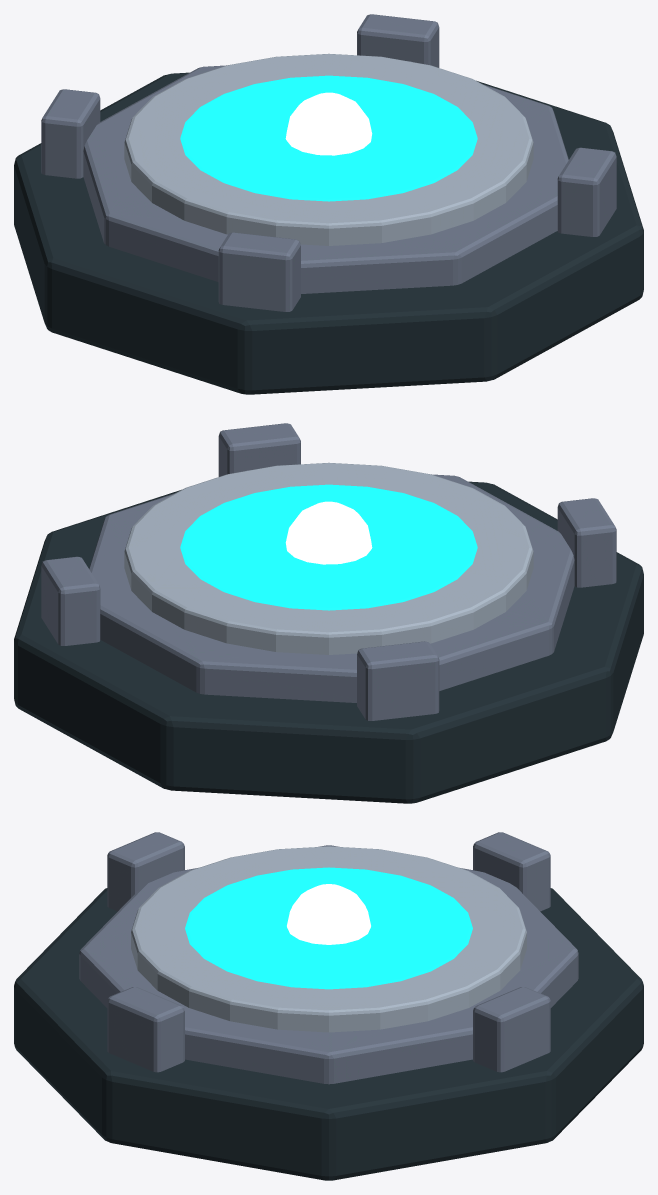
File: holo_projector_pedestal.glb
The picture shows the model from 3 angles, top to bottom: view 1: azimuth 30°, elevation 25°; view 2: azimuth 150°, elevation 25°; view 3: azimuth 270°, elevation 25°; orthographic projection. The views are drawn at different scales.
Visible parts, largest first — view 1: Emitter_Rim, Conduit_0, Focus_Node; view 2: Emitter_Rim, Conduit_0, Focus_Node; view 3: Emitter_Rim, Conduit_0, Focus_Node.
Part boxes in pixels (left/top/right/bottom): Emitter_Rim: left=14, top=14, right=643, bottom=394; Conduit_0: left=180, top=75, right=477, bottom=201; Focus_Node: left=285, top=92, right=372, bottom=155; Emitter_Rim: left=14, top=423, right=643, bottom=803; Conduit_0: left=180, top=484, right=477, bottom=610; Focus_Node: left=285, top=501, right=372, bottom=564; Emitter_Rim: left=14, top=832, right=643, bottom=1180; Conduit_0: left=185, top=867, right=472, bottom=989; Focus_Node: left=287, top=884, right=370, bottom=944.
Size of the model in its own units: 2.39 by 0.68 by 2.39.
Materials: 4 (4 with a texture image).
